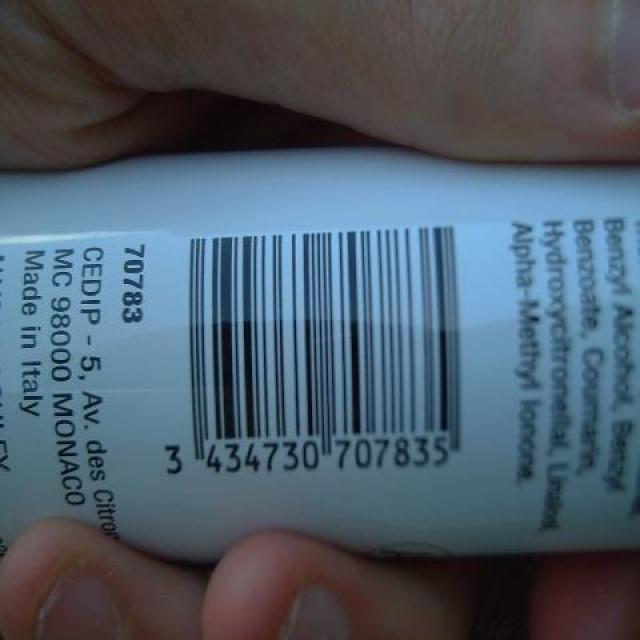Barcode: (158, 220, 477, 481)
